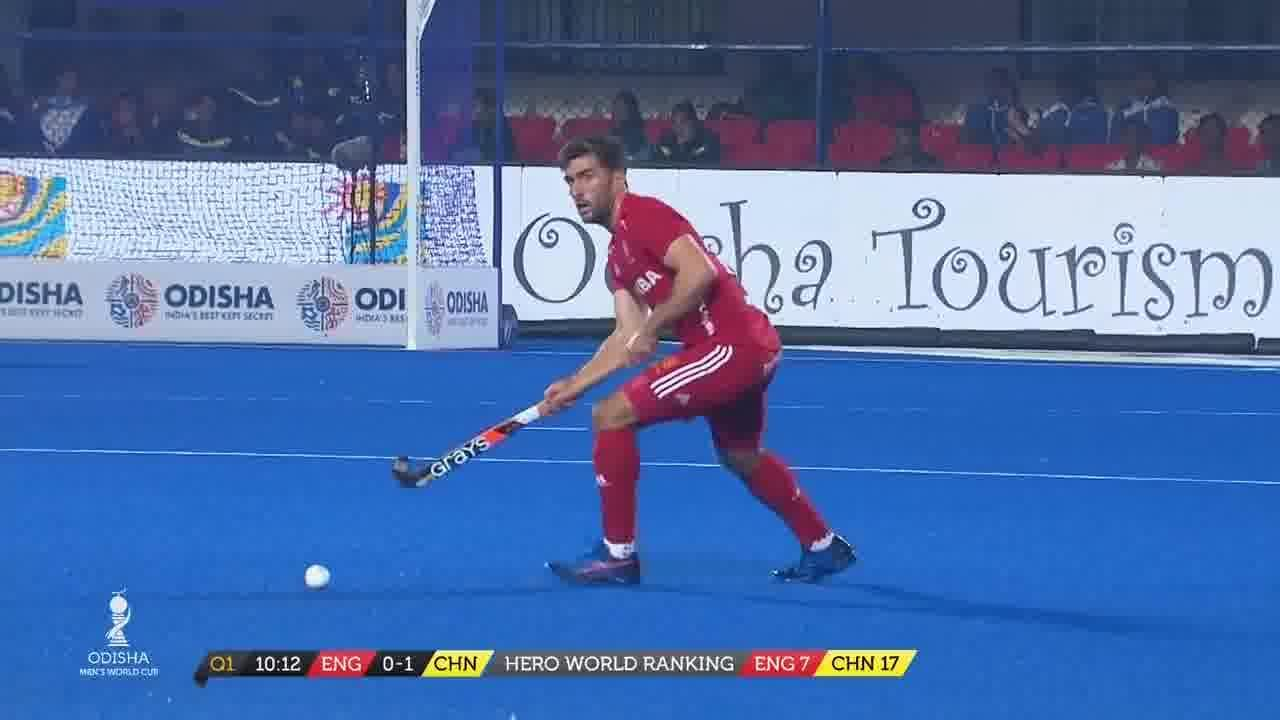ball: (290, 560, 343, 601)
